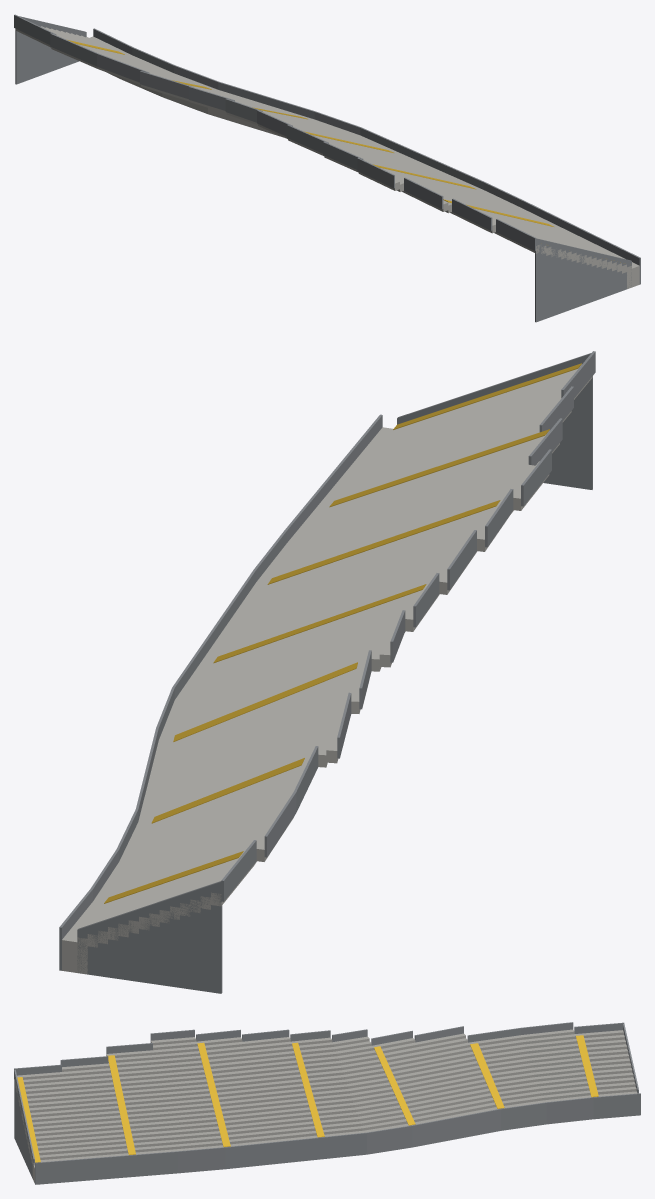
The model's file is spo_stand_a_1.glb.
3 renders of one model, top to bottom at view 1: azimuth 30°, elevation 25°; view 2: azimuth 150°, elevation 25°; view 3: azimuth 270°, elevation 25°, orthographic. The views are drawn at different scales.
Visible parts, largest first — view 1: sao-paulo-sector-a-1; view 2: sao-paulo-sector-a-1; view 3: sao-paulo-sector-a-1.
Boxes of the visible parts, bbox=[...] form: sao-paulo-sector-a-1: bbox=[14, 14, 640, 322]; sao-paulo-sector-a-1: bbox=[59, 351, 595, 993]; sao-paulo-sector-a-1: bbox=[14, 1022, 640, 1184].
Bounding box in the file's own units: 36.75 × 13.2 × 92.25.
